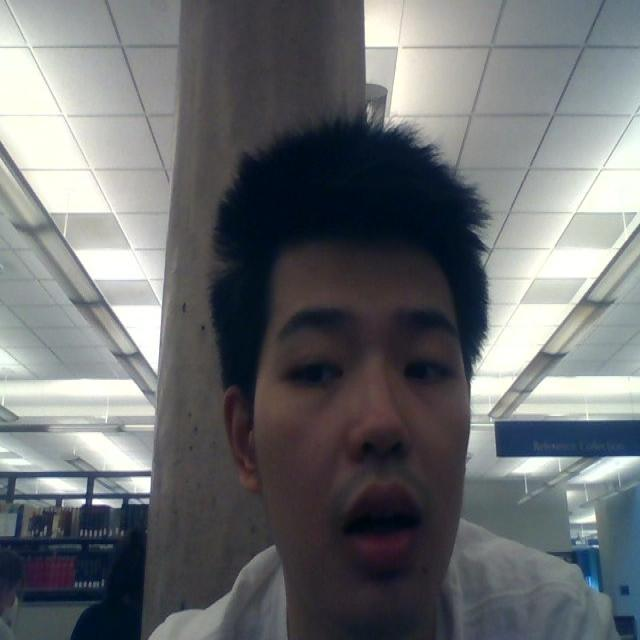Yawn: (273, 301, 459, 584)
